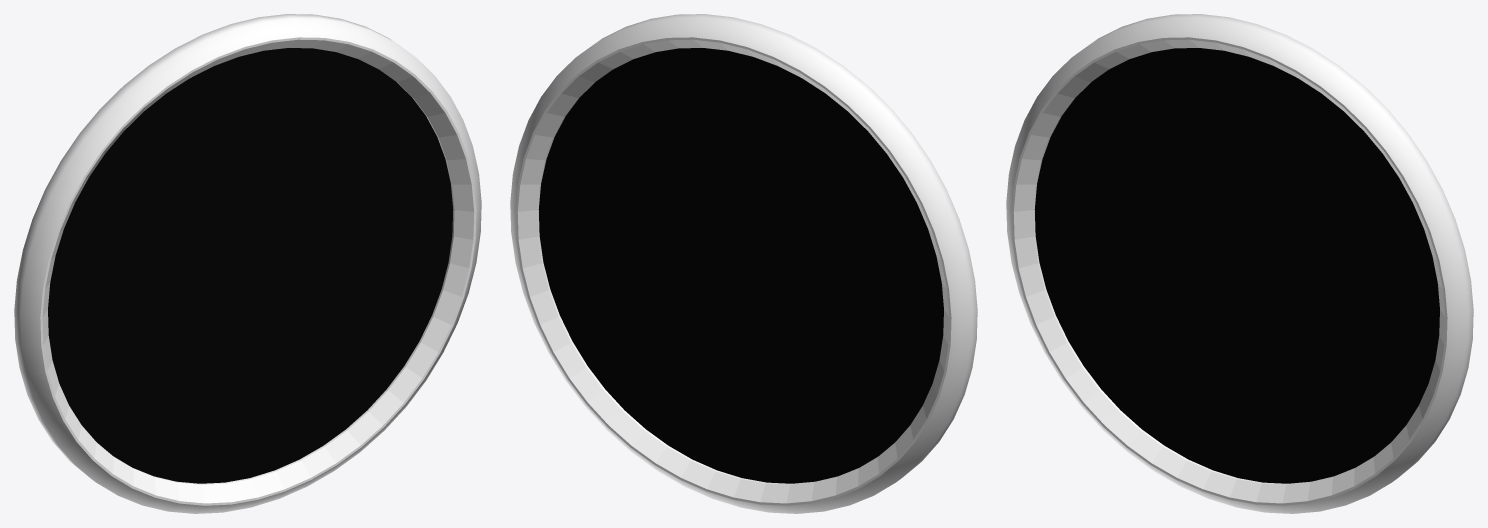
Rendered from poi-disc.glb.
3 renders of one model, left to right at view 1: azimuth 30°, elevation 25°; view 2: azimuth 150°, elevation 25°; view 3: azimuth 330°, elevation 25°, orthographic.
Visible parts, largest first — view 1: inner, outer; view 2: inner, outer; view 3: inner, outer.
Part boxes in pixels (bbox=[...]): inner: bbox=[48, 48, 453, 483]; outer: bbox=[14, 14, 481, 513]; inner: bbox=[538, 48, 943, 483]; outer: bbox=[510, 14, 977, 513]; inner: bbox=[1034, 48, 1439, 483]; outer: bbox=[1006, 14, 1473, 513].
Bounding box in the file's own units: 2.03 × 2.03 × 0.1595.
Materials: 2 (1 with a texture image).
